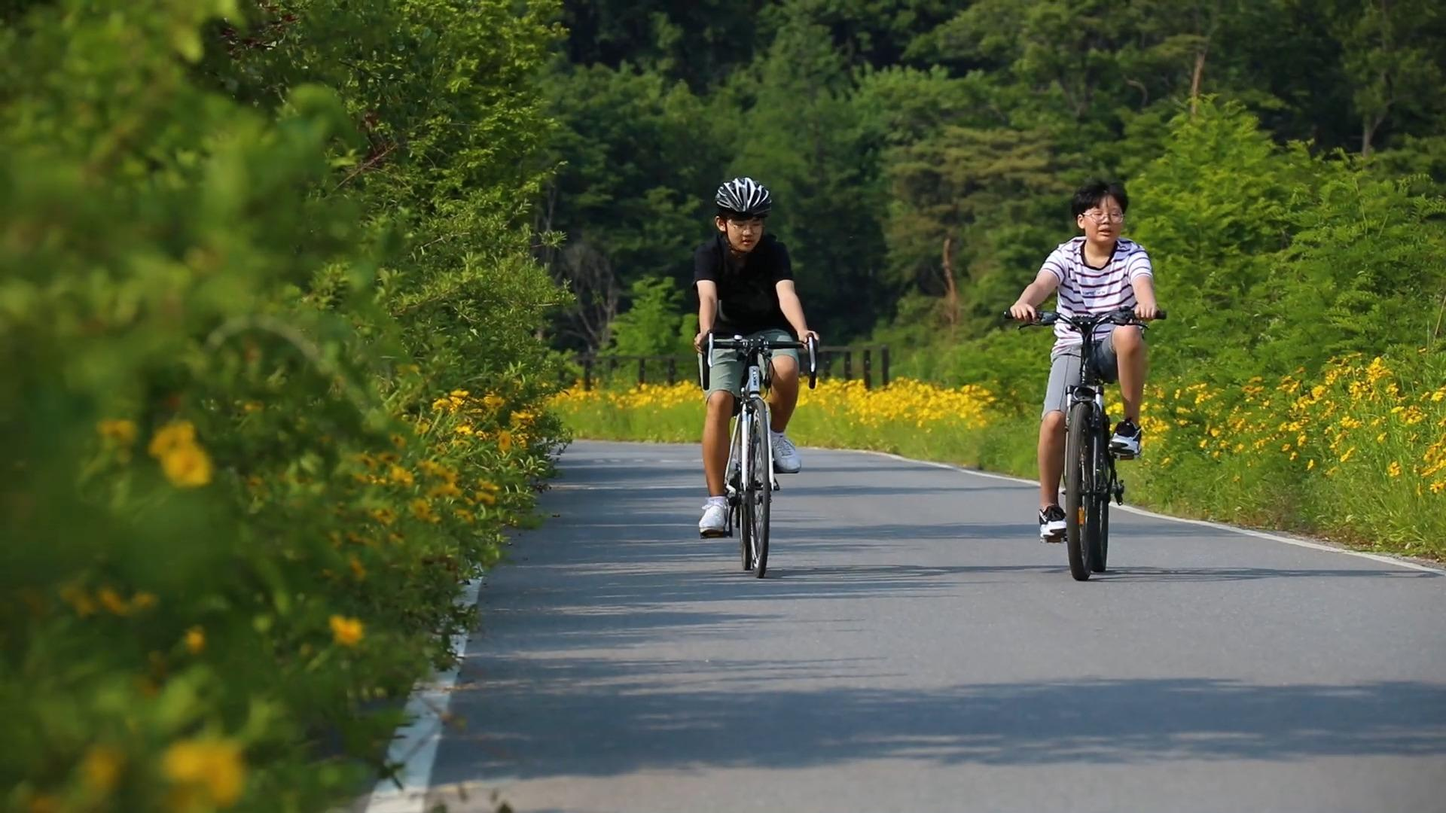bicyclist: (1003, 176, 1168, 582), (690, 176, 820, 582)
helmet: (712, 175, 773, 255)
no-helmet: (1069, 177, 1129, 246)
